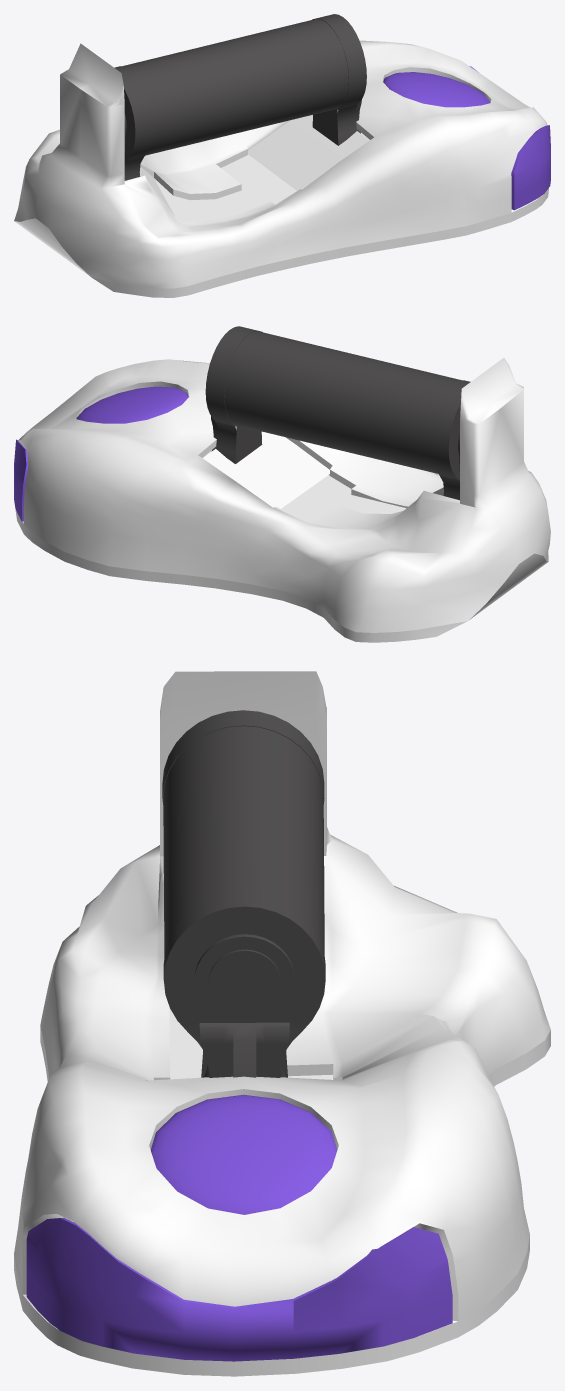
File: LAnkleRoll.dae
The picture shows the model from 3 angles, top to bottom: view 1: azimuth 30°, elevation 25°; view 2: azimuth 150°, elevation 25°; view 3: azimuth 270°, elevation 25°; orthographic projection. The views are drawn at different scales.
Parts seen in each view (by area): view 1: LAnkleRoll; view 2: LAnkleRoll; view 3: LAnkleRoll.
Part boxes in pixels (x1,y1,x2,y2): LAnkleRoll: (14,14,550,297); LAnkleRoll: (14,326,550,642); LAnkleRoll: (14,671,550,1376).
Size of the model in its own units: 1.6 by 0.9049 by 0.6467.
Materials: 1 (1 with a texture image).
